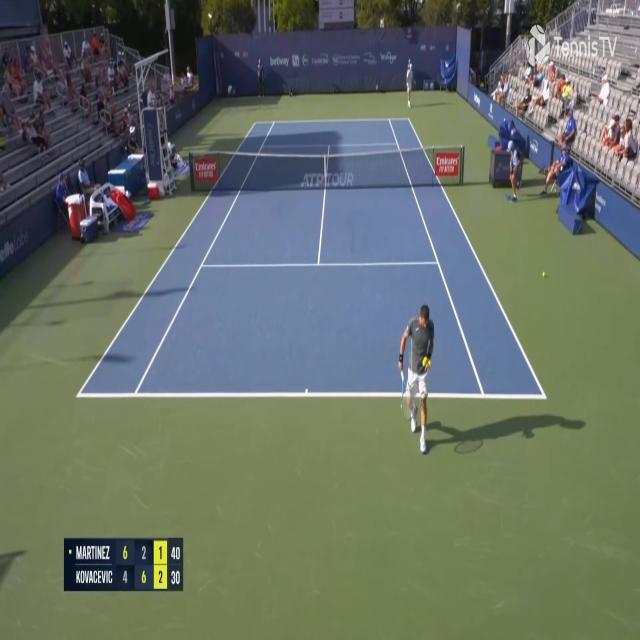tennis-player: (397, 292, 435, 458)
